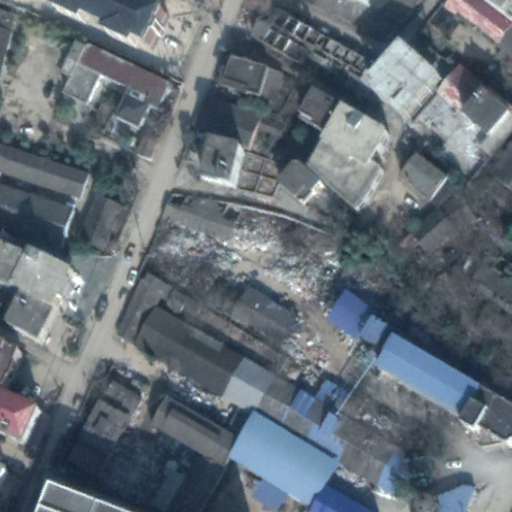msw: (156, 211, 360, 386)
